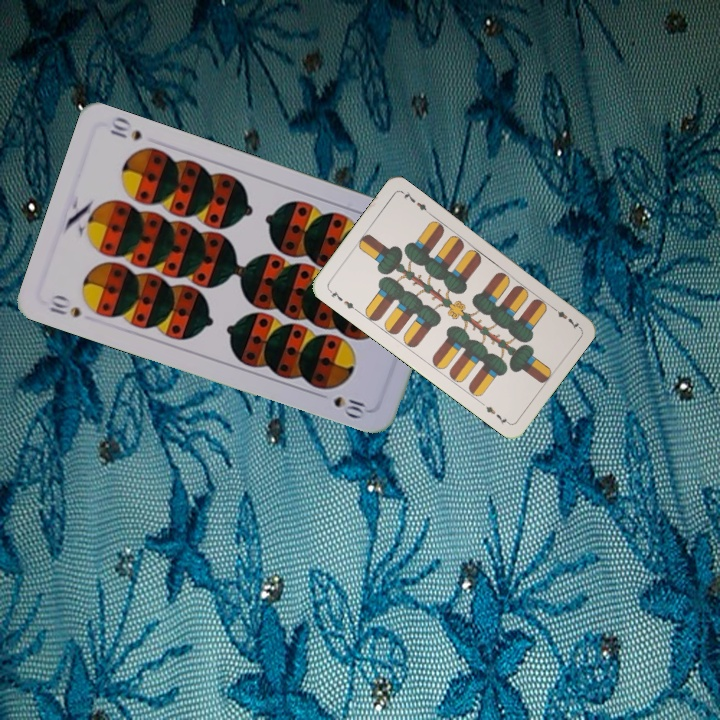E7: (547, 302, 582, 332), (324, 285, 360, 314)
S10: (45, 291, 84, 320)
